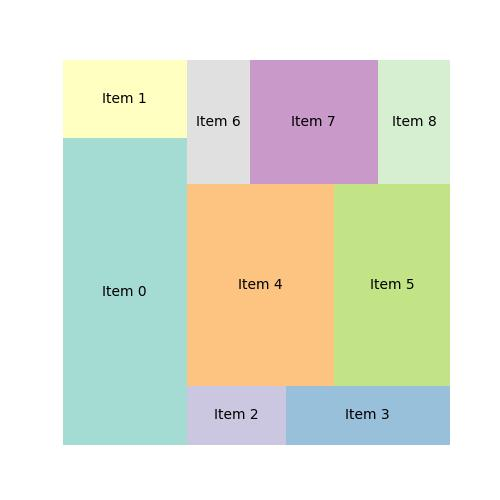rectangle: (62, 139, 187, 446), (186, 184, 334, 386), (334, 186, 450, 386), (251, 59, 379, 184), (62, 59, 189, 140), (286, 385, 449, 445), (379, 61, 449, 186), (186, 59, 252, 185), (187, 383, 286, 444)
